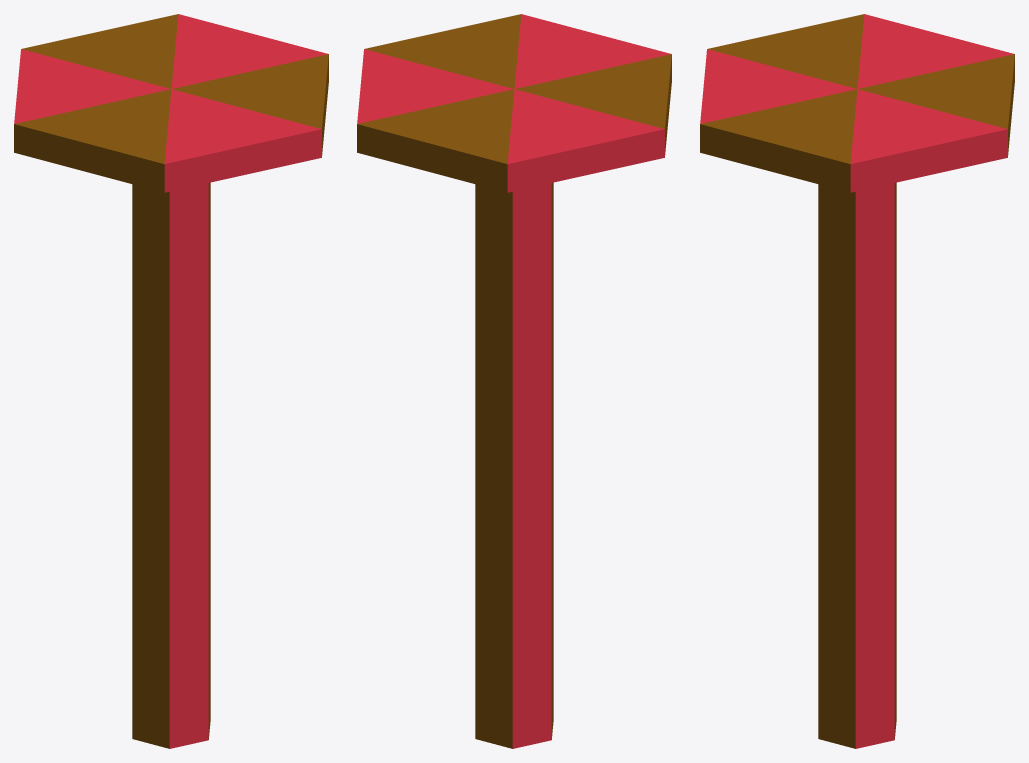
File: TinyPedestal.fbx
3 views of the same model, side by side, from view 1: azimuth 30°, elevation 25°; view 2: azimuth 150°, elevation 25°; view 3: azimuth 270°, elevation 25° (orthographic).
Visible parts, largest first — view 1: TinyPedestal; view 2: TinyPedestal; view 3: TinyPedestal.
Boxes of the visible parts, x1,y1,x2,y2 form: TinyPedestal: (14, 14, 328, 748); TinyPedestal: (357, 14, 671, 748); TinyPedestal: (700, 14, 1014, 748).
Size of the model in its own units: 57.96 by 115 by 51.32.
